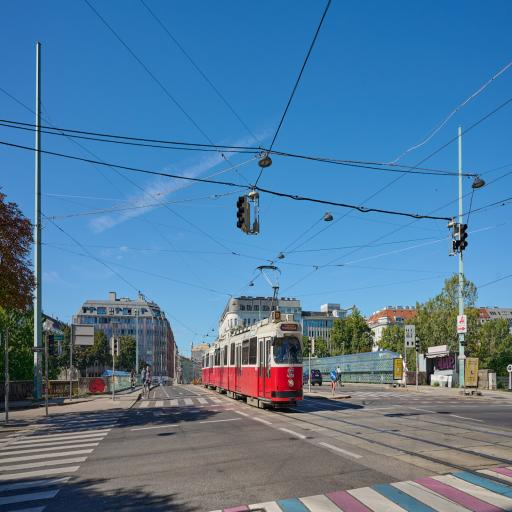E2-Tram: (203, 310, 304, 406)
